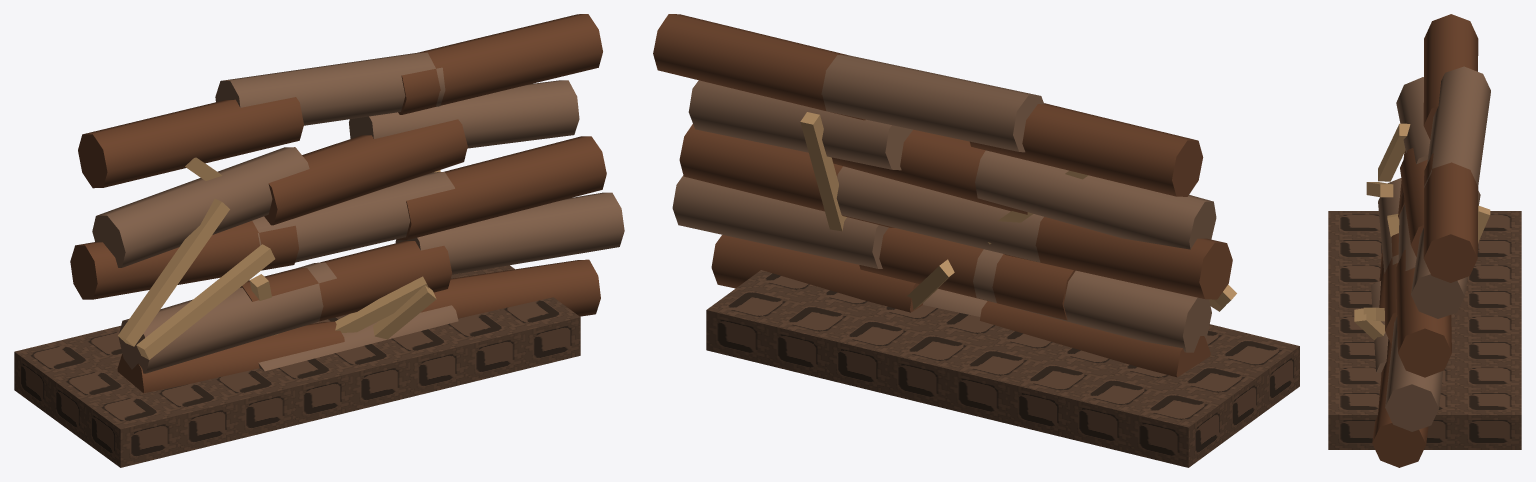
File: BeaverDamWall.glb
3 renders of one model, left to right at view 1: azimuth 30°, elevation 25°; view 2: azimuth 150°, elevation 25°; view 3: azimuth 270°, elevation 25°, orthographic. The views are drawn at different scales.
Parts seen in each view (by area): view 1: BeaverDamWall; view 2: BeaverDamWall; view 3: BeaverDamWall.
Boxes of the visible parts, x1,y1,x2,y2 form: BeaverDamWall: (14, 14, 624, 467); BeaverDamWall: (653, 14, 1299, 467); BeaverDamWall: (1328, 14, 1521, 467).
Bounding box in the file's own units: 8.78 × 4.95 × 3.
Materials: 1 (1 with a texture image).
